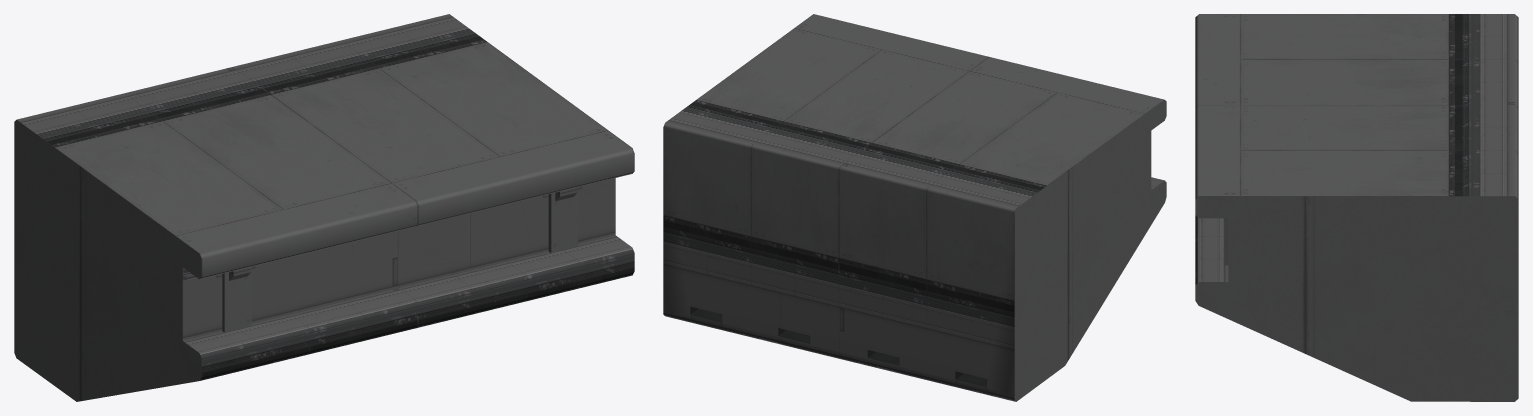
File: Stairs_ceiling1_L1.fbx
3 renders of one model, left to right at view 1: azimuth 30°, elevation 25°; view 2: azimuth 150°, elevation 25°; view 3: azimuth 270°, elevation 25°, orthographic. The views are drawn at different scales.
Visible parts, largest first — view 1: polySurface274; view 2: polySurface274; view 3: polySurface274.
Boxes of the visible parts, x1,y1,x2,y2 form: polySurface274: (14, 14, 634, 401); polySurface274: (663, 14, 1166, 401); polySurface274: (1195, 14, 1518, 401).
Size of the model in its own units: 400 by 211 by 300.
